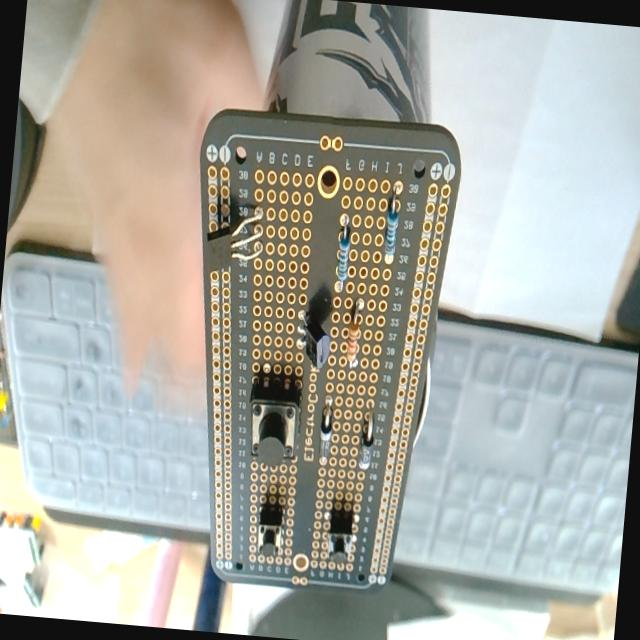diode: (358, 410, 377, 470), (316, 403, 334, 465)
resistor: (374, 186, 402, 266), (342, 296, 364, 373), (333, 216, 352, 288)
switch: (244, 379, 302, 467), (255, 502, 284, 560), (324, 509, 354, 565)
transistor: (198, 198, 270, 286), (292, 311, 332, 373)
